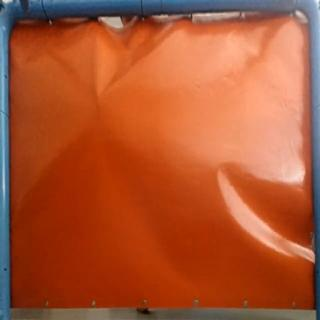Hit-hRxx: (90, 88, 105, 103)
